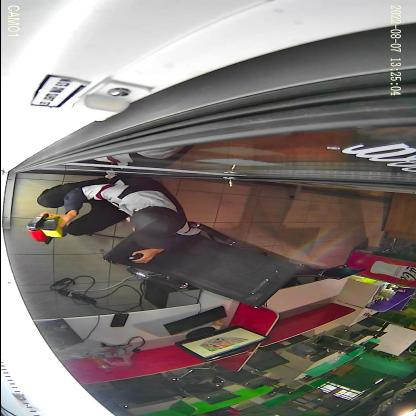red: (26, 214, 52, 245)
yellow: (40, 216, 67, 238)
